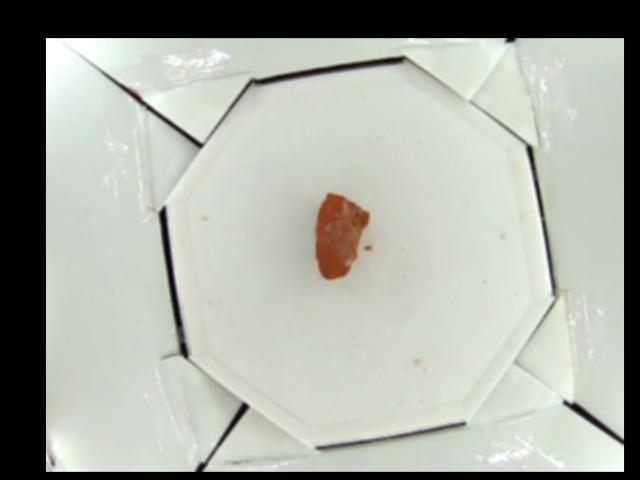Brisk: (313, 189, 369, 278)
